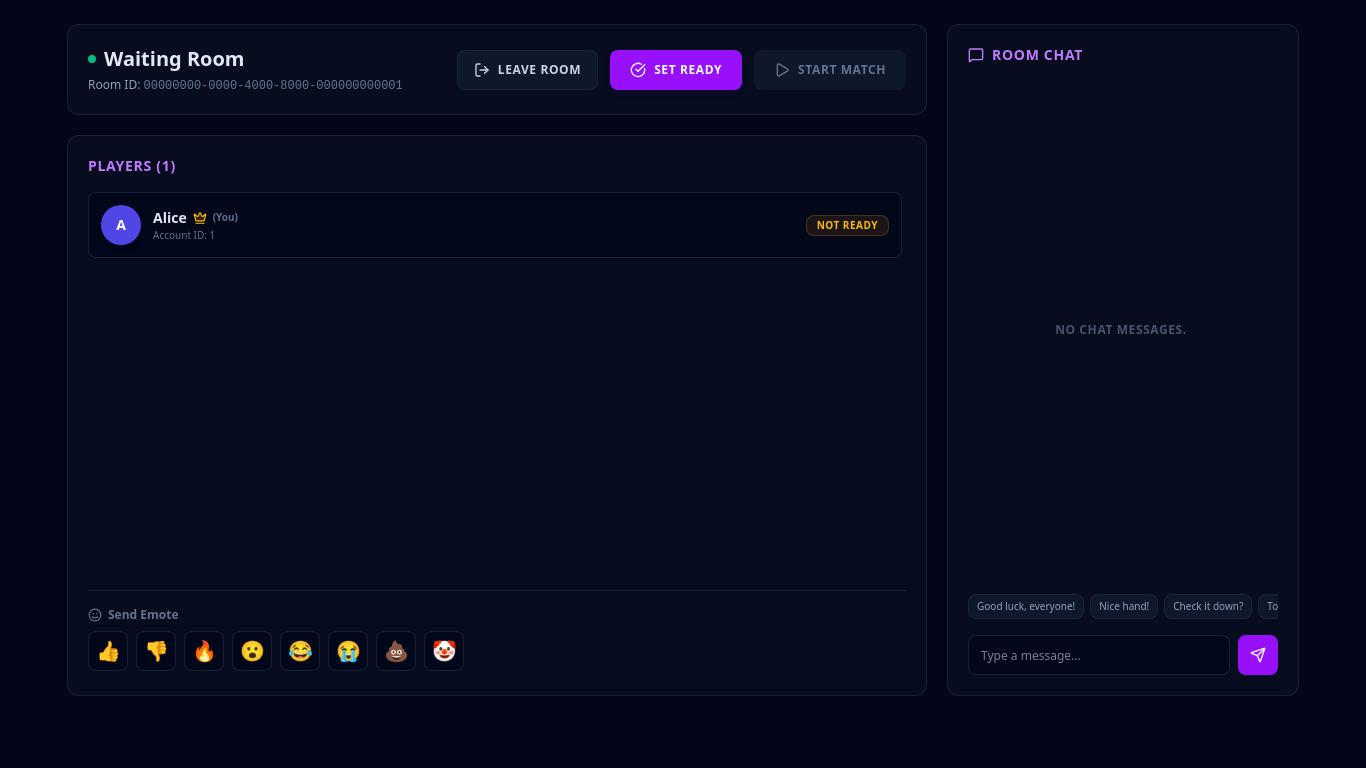
Test case: WaitingRoom and PokerTable Flow › keeps the user in the room when leaving an active match is rejected
Check: the heading "Waiting Room" is shown, box x1=104 y1=45 x2=244 y2=73
What coordinates should you click on to do the following:
click the button "Leave Room"
I would click on:
 (528, 70)
Its box is x1=457 y1=50 x2=598 y2=90.
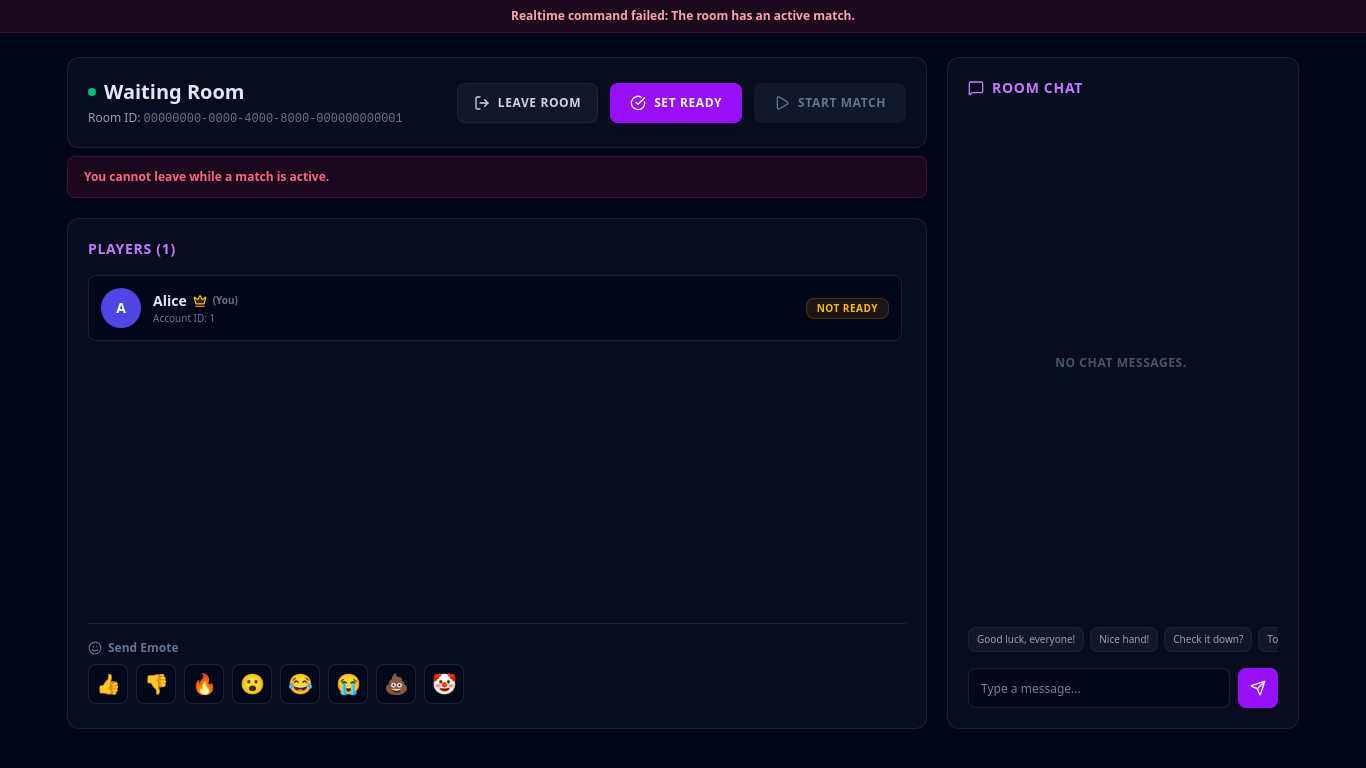
Check: the message "You cannot leave while a match is active." is shown, box x1=67 y1=156 x2=927 y2=198
